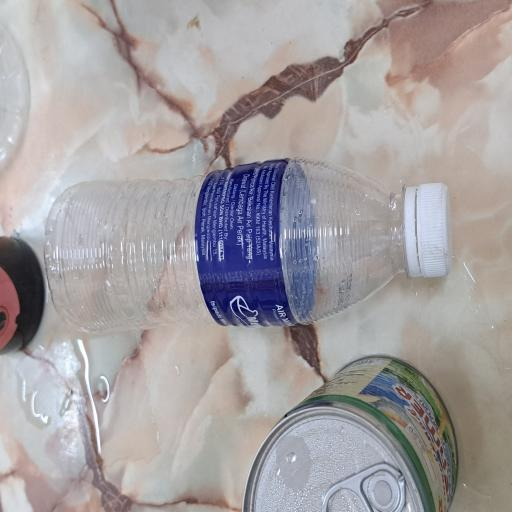can: (0, 322, 116, 512)
plastic bottle: (134, 55, 267, 512)
pop tab: (0, 428, 39, 512)
